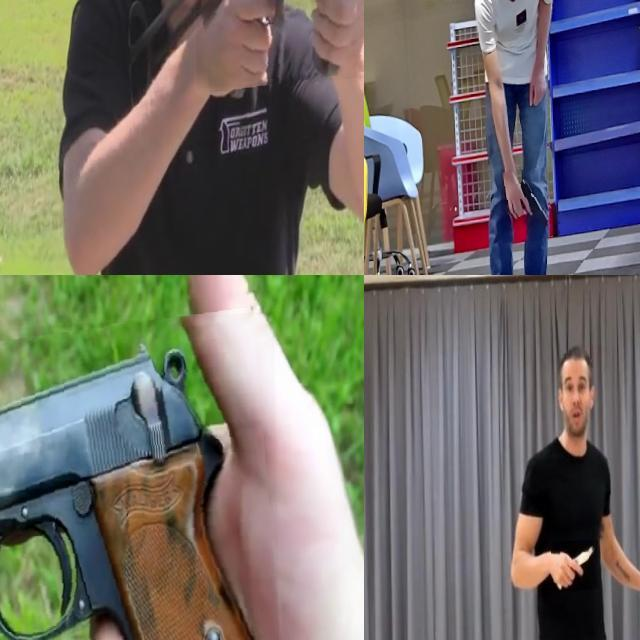-: (551, 544, 597, 596)
gun-knife-thesis - v11 Yolov5 augmented: (0, 318, 278, 640), (193, 0, 364, 123), (500, 173, 550, 248)
